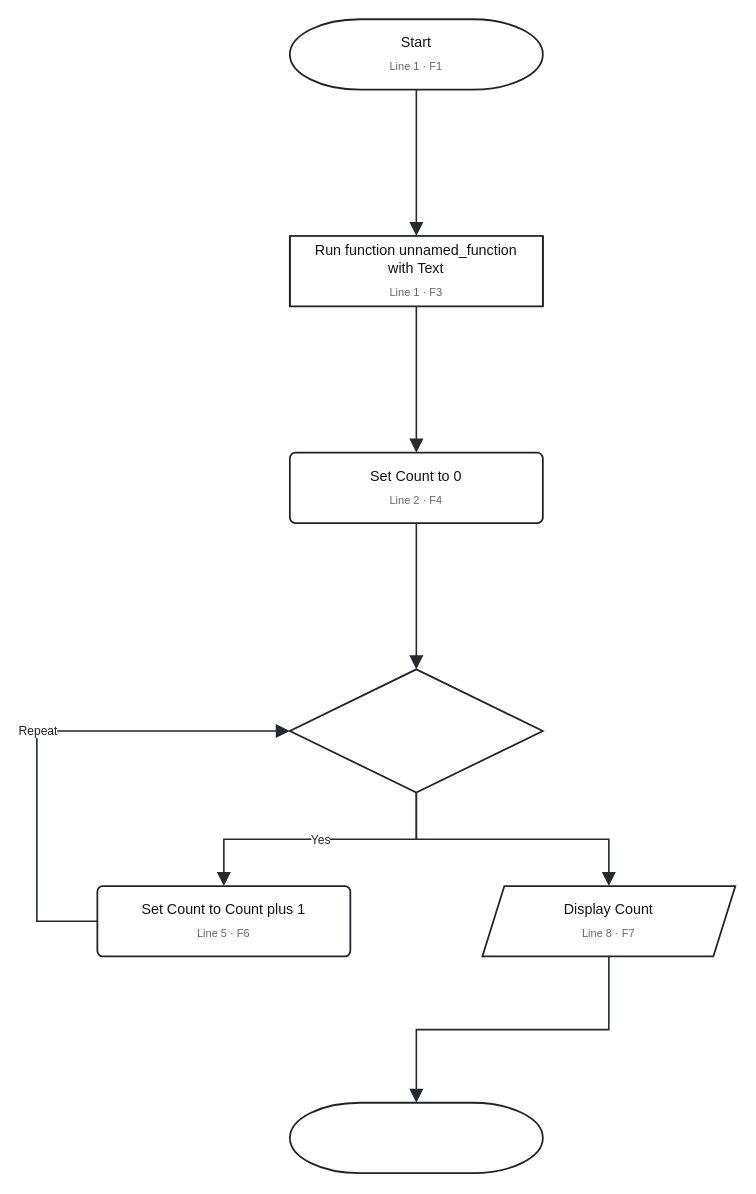
Some shapes in this 756 by 1194 pixel diagram are drawn without their labels. The box of each missing label's shape, as (x1, y1, x2, y2) in pixels:
End Line 1 · F2: (288, 1101, 543, 1173)
For each Character in Text Line 4 · F5: (288, 668, 543, 793)
